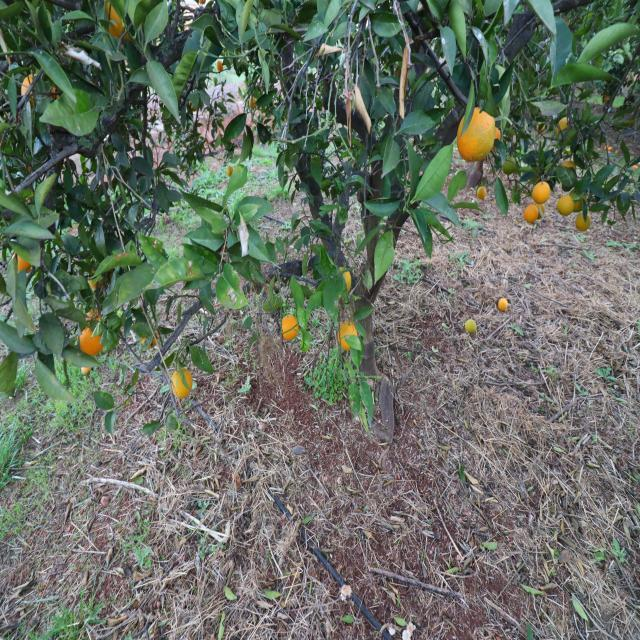Jeruk Belum Matang: (557, 195, 580, 215), (503, 157, 516, 173), (466, 320, 477, 336)
Jeruk Sudah Matang: (458, 109, 496, 162), (102, 3, 131, 42), (172, 368, 195, 400), (78, 332, 102, 358), (338, 324, 358, 352), (280, 316, 300, 342), (19, 74, 36, 102), (520, 202, 541, 222), (13, 252, 32, 274), (534, 182, 554, 202), (341, 268, 356, 290), (576, 215, 592, 231), (86, 306, 100, 322), (558, 118, 572, 132), (496, 298, 510, 310), (478, 186, 487, 200), (604, 143, 616, 153)
